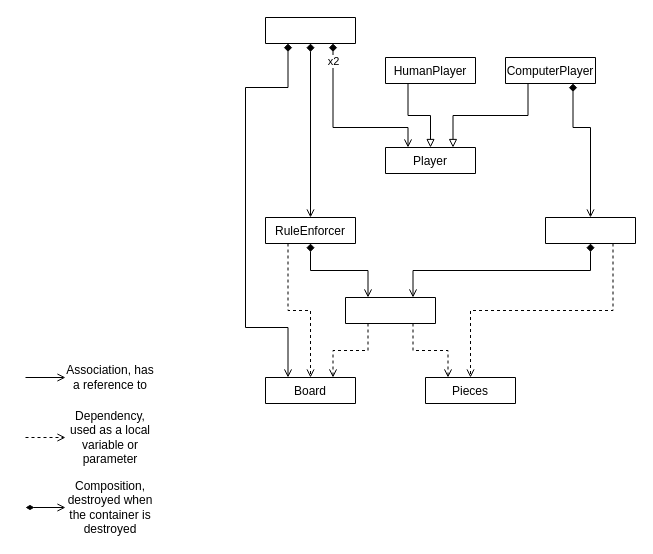
This 653x554 diagram has some shape labels left out. The centre of each missing label's shape, as x and y in pixels:
ChessEngine: point (590, 230)
GameState: point (310, 30)
MoveGenerator: point (390, 310)
